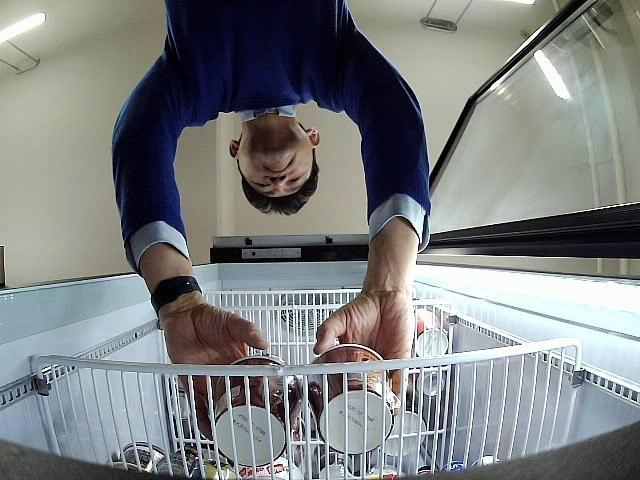06_nuguri_S: (302, 344, 395, 454), (214, 356, 302, 466)
